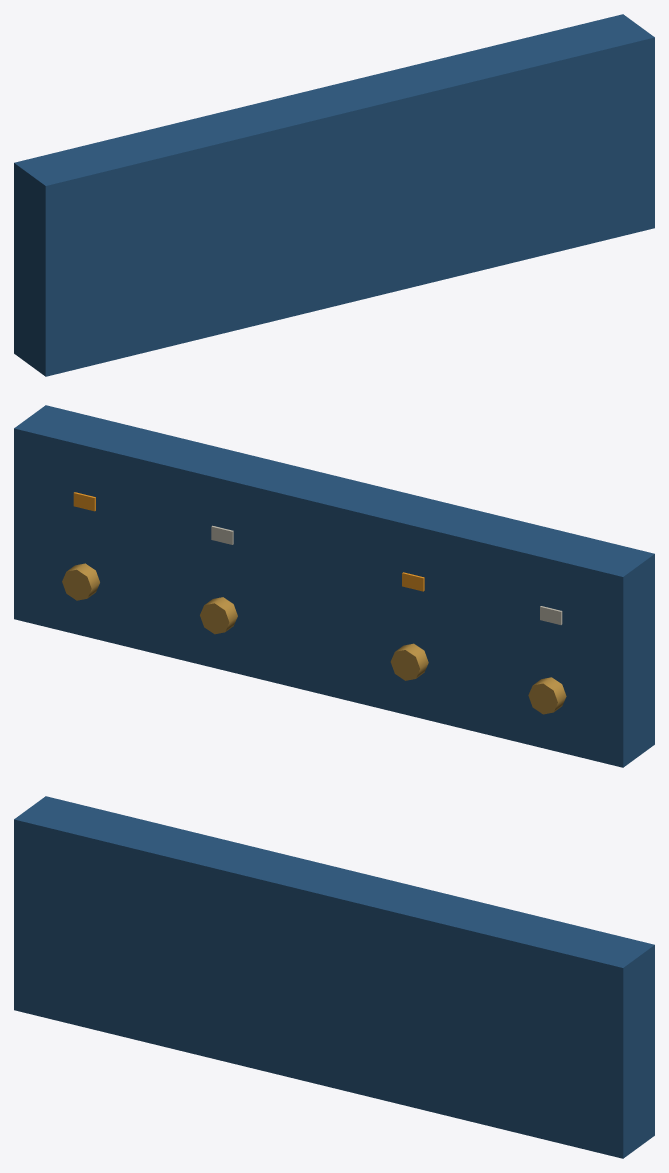
Rendered from drone4_charger.obj.
3 views of the same model, one above another, from view 1: azimuth 30°, elevation 25°; view 2: azimuth 150°, elevation 25°; view 3: azimuth 330°, elevation 25° (orthographic).
Visible parts, largest first — view 1: drone4_charger; view 2: drone4_charger; view 3: drone4_charger.
Part boxes in pixels (x1,y1,x2,y2): drone4_charger: (14,14,654,376); drone4_charger: (14,405,654,767); drone4_charger: (14,796,654,1158).
Bounding box in the file's own units: 2.87 × 0.86 × 0.33.
